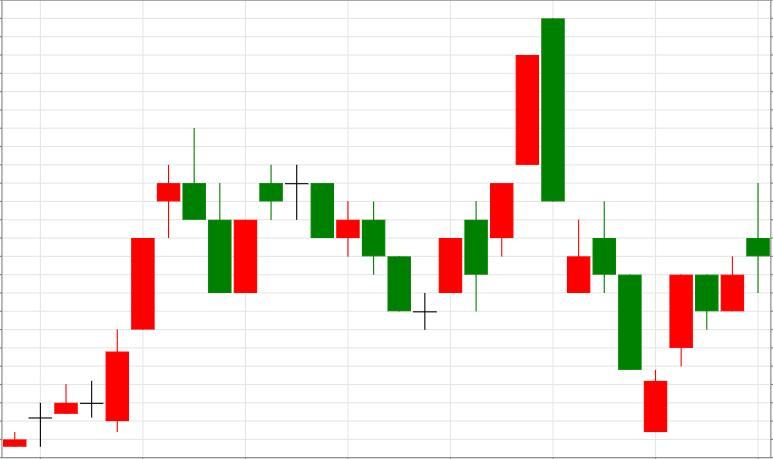bearish_engulfing_fall: (413, 18, 564, 330)
shooting_star_fall: (2, 127, 206, 447)
